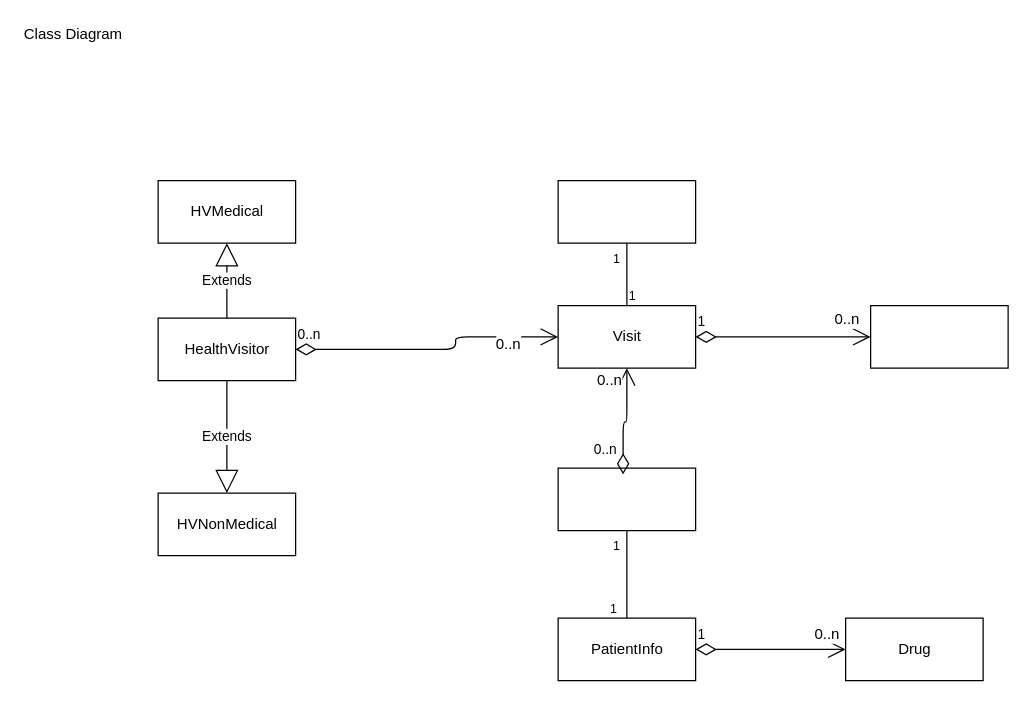
The diagram is 1030 pixels wide and 703 high, and some of its shapes have lost their labels. The box of each missing label's shape, as (x1, y1, x2, y2) in pixels:
Customer (Patient): (557, 467, 696, 531)
Note: (869, 304, 1008, 368)
Report: (557, 179, 696, 243)
